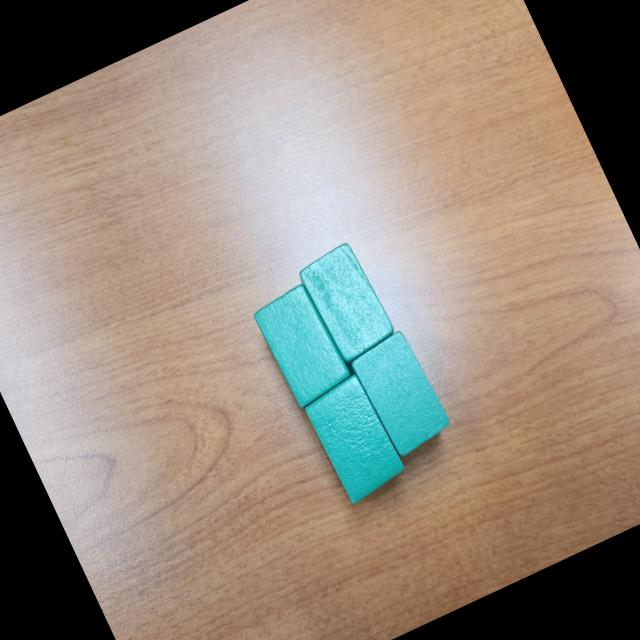green: (347, 328, 458, 462), (300, 370, 410, 505), (248, 280, 358, 410), (294, 238, 401, 369)
